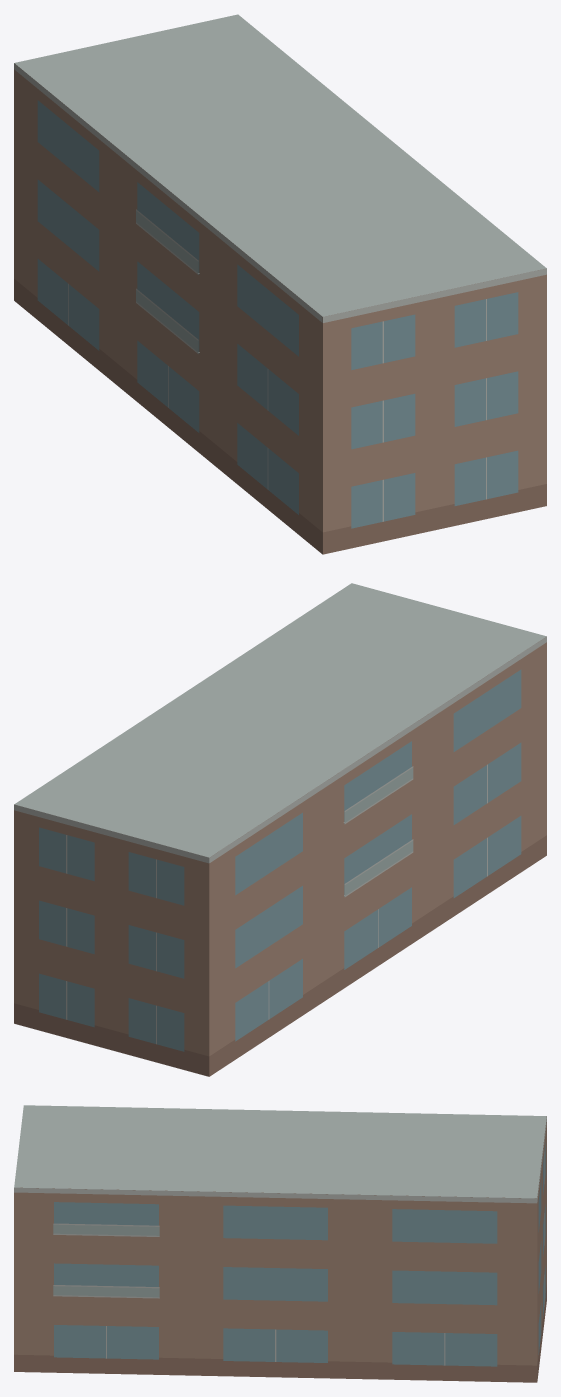
Rendered from residential-ef01f338-4659-4267-80c0-c3a2e91ea4f7.glb.
The picture shows the model from 3 angles, top to bottom: view 1: azimuth 30°, elevation 25°; view 2: azimuth 150°, elevation 25°; view 3: azimuth 270°, elevation 25°; orthographic projection. The views are drawn at different scales.
Parts seen in each view (by area): view 1: residential-ef01f338-4659-4267-80c0-c3a2e91ea4f7.tmp; view 2: residential-ef01f338-4659-4267-80c0-c3a2e91ea4f7.tmp; view 3: residential-ef01f338-4659-4267-80c0-c3a2e91ea4f7.tmp.
Part boxes in pixels (x1,y1,x2,y2): residential-ef01f338-4659-4267-80c0-c3a2e91ea4f7.tmp: (14,14,546,554); residential-ef01f338-4659-4267-80c0-c3a2e91ea4f7.tmp: (14,583,546,1076); residential-ef01f338-4659-4267-80c0-c3a2e91ea4f7.tmp: (14,1105,546,1382).
Size of the model in its own units: 9.94 by 9.15 by 23.99.
